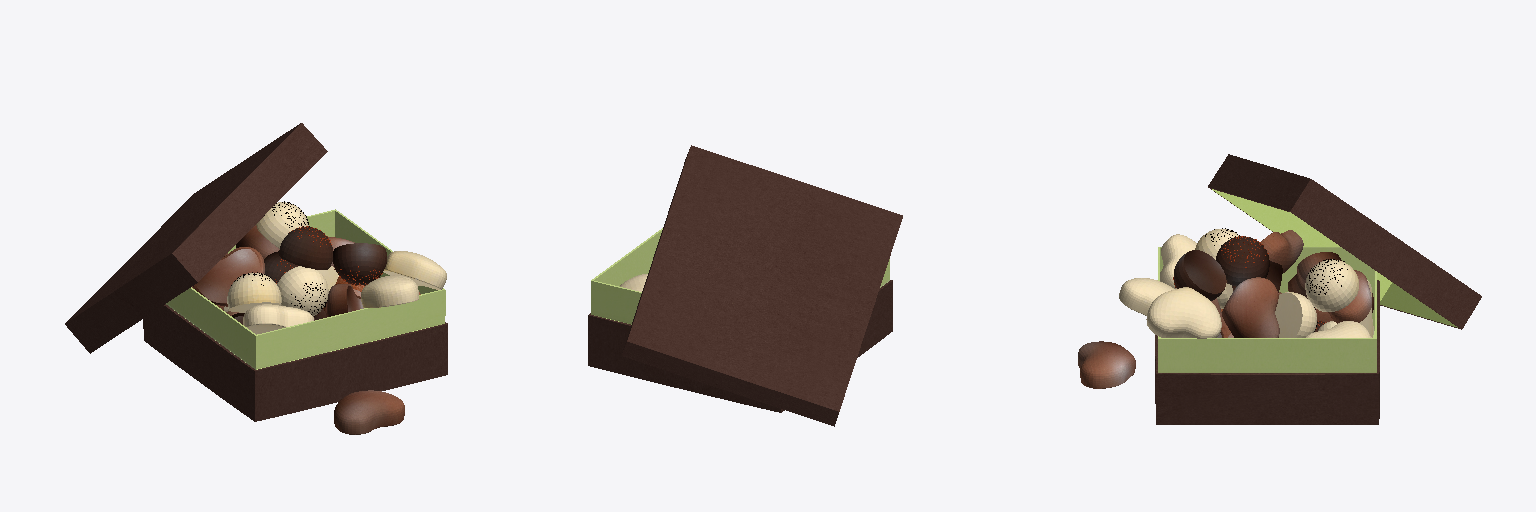
The picture shows the model from 3 angles: view 1: azimuth 30°, elevation 25°; view 2: azimuth 150°, elevation 25°; view 3: azimuth 270°, elevation 25°; orthographic projection.
Parts seen in each view (by area): view 1: Box_chocolates, Chocolates, Box; view 2: Box, Box_chocolates; view 3: Chocolates, Box_chocolates, Box.
Part boxes in pixels (bbox=[...]): Box_chocolates: bbox=[143, 209, 447, 421]; Chocolates: bbox=[192, 201, 446, 434]; Box: bbox=[65, 123, 327, 353]; Box: bbox=[622, 145, 902, 426]; Box_chocolates: bbox=[588, 228, 892, 412]; Chocolates: bbox=[1078, 228, 1373, 388]; Box_chocolates: bbox=[1155, 247, 1379, 424]; Box: bbox=[1208, 154, 1481, 329].
Bounding box in the file's own units: 98.84 × 77.03 × 132.
Materials: 11 (7 with a texture image).